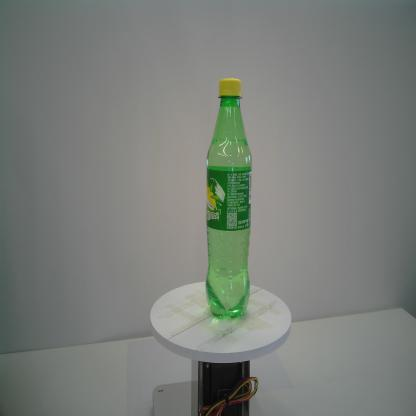Drink: (203, 76, 253, 322)
